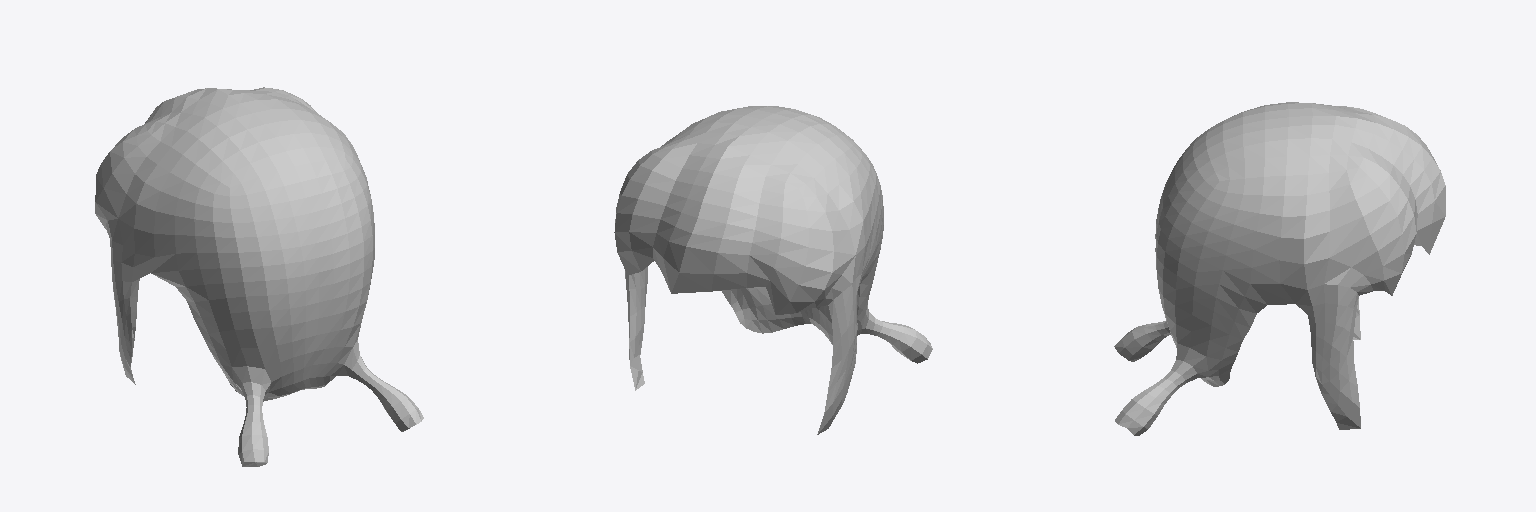
File: hair.obj
The picture shows the model from 3 angles: view 1: azimuth 30°, elevation 25°; view 2: azimuth 150°, elevation 25°; view 3: azimuth 270°, elevation 25°; orthographic projection.
Visible parts, largest first — view 1: Group3, Group5; view 2: Group3, Group4, Group5; view 3: Group3, Group5.
Boxes of the visible parts, x1=… form: Group3: x1=95, y1=87, x2=374, y2=401; Group5: x1=232, y1=340, x2=423, y2=466; Group3: x1=614, y1=106, x2=883, y2=434; Group4: x1=629, y1=259, x2=859, y2=390; Group5: x1=857, y1=305, x2=932, y2=363; Group3: x1=1155, y1=102, x2=1445, y2=429; Group5: x1=1114, y1=321, x2=1207, y2=435.
Bounding box in the file's own units: 1.16 × 1.37 × 1.46.